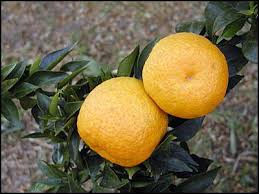orange: (75, 70, 169, 166), (140, 29, 231, 117)
